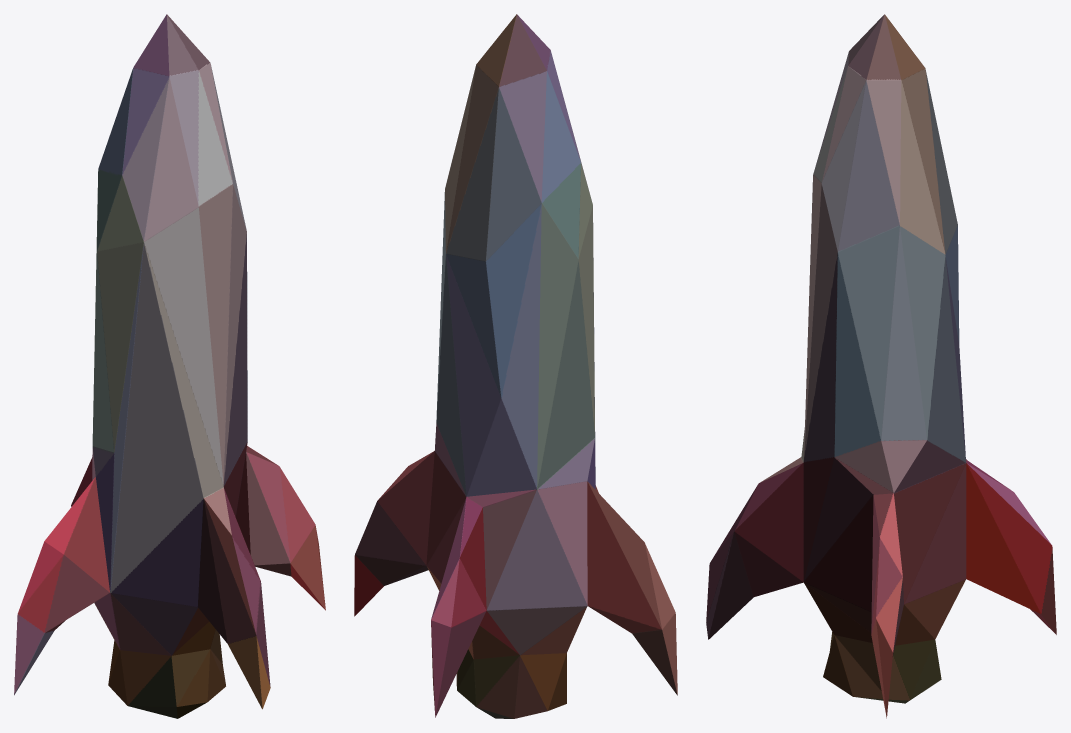
Rendered from rocket.fbx.
The picture shows the model from 3 angles, left to right: view 1: azimuth 30°, elevation 25°; view 2: azimuth 150°, elevation 25°; view 3: azimuth 270°, elevation 25°; orthographic projection. The views are drawn at different scales.
Parts seen in each view (by area): view 1: Mesh_0; view 2: Mesh_0; view 3: Mesh_0.
Boxes of the visible parts, x1=… form: Mesh_0: x1=14, y1=14, x2=325, y2=718; Mesh_0: x1=354, y1=14, x2=677, y2=718; Mesh_0: x1=706, y1=14, x2=1056, y2=718.
Bounding box in the file's own units: 57.36 × 120 × 55.81.
Materials: 1 (1 with a texture image).
